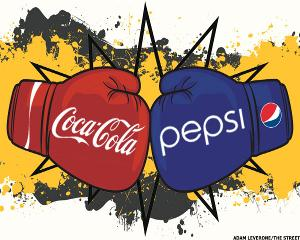pepsi: (257, 100, 282, 126), (258, 100, 282, 126)
